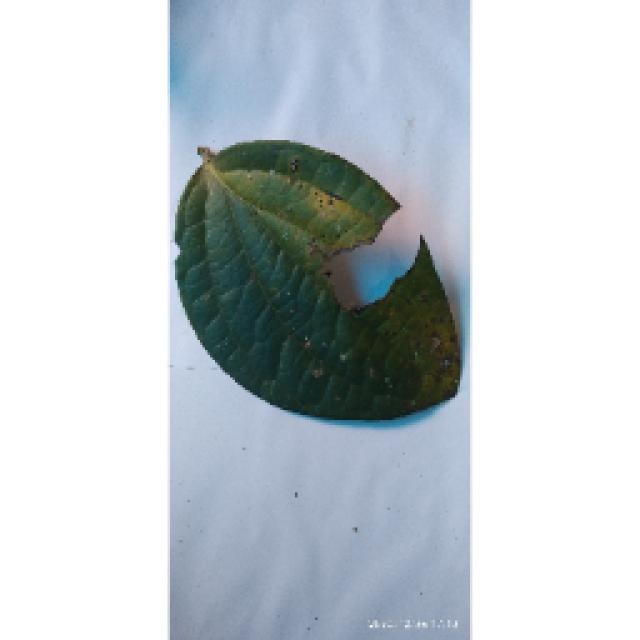slow-decline: (168, 135, 462, 417)
